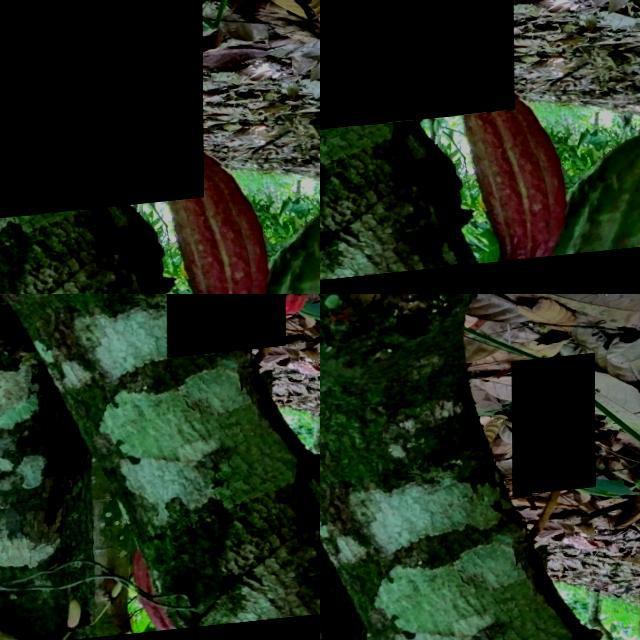Monilia: (512, 362, 594, 502), (165, 294, 285, 363)
Sana: (0, 0, 202, 228), (320, 0, 512, 139)
